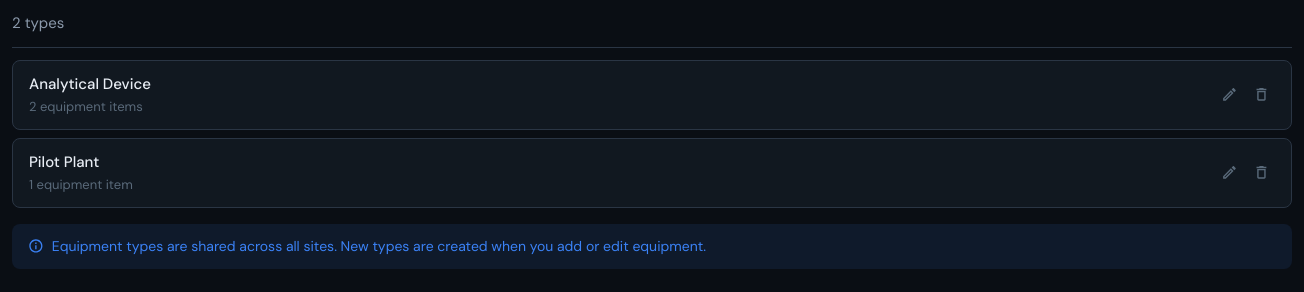
EquipmentTypesPanel › renames a type and refreshes the equipment in the store
Expected: the text "Pilot Plant" is shown, [29,152,99,172]
Click the button titled "Rename type" at (1229, 172), box [1215,158,1243,186]
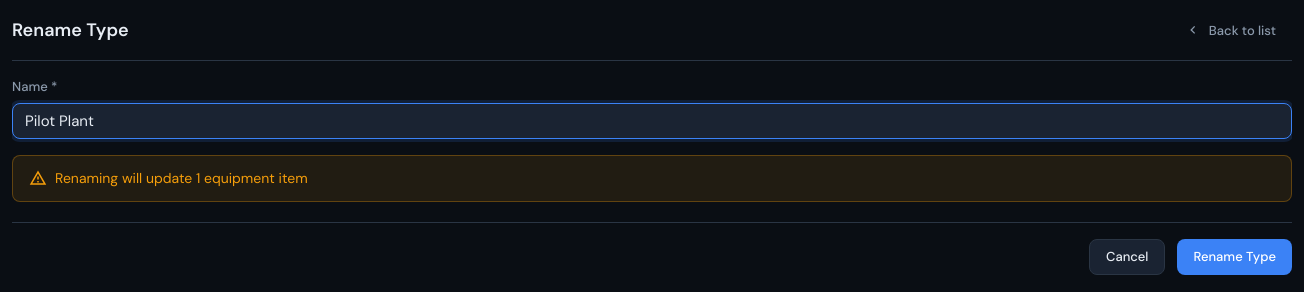
Replace the text in the field labelled "Name *" with "Pilot Line" at (652, 120), box [12,102,1292,138]
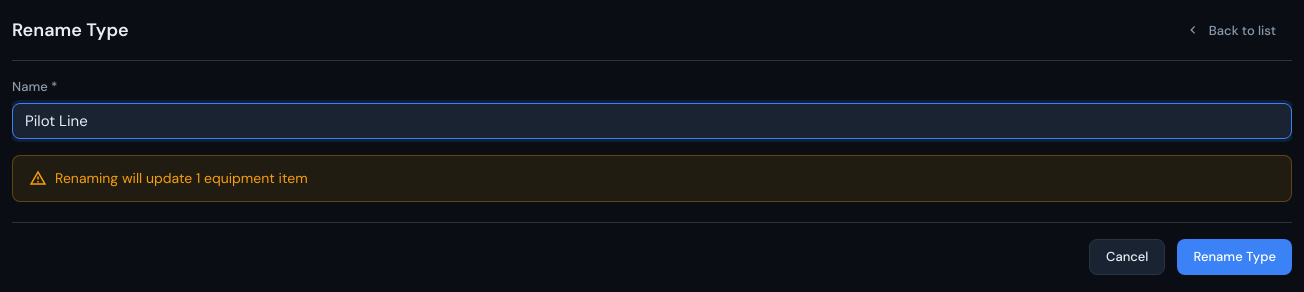
Click the button "Rename Type" at (1235, 256), box [1178,238,1292,274]
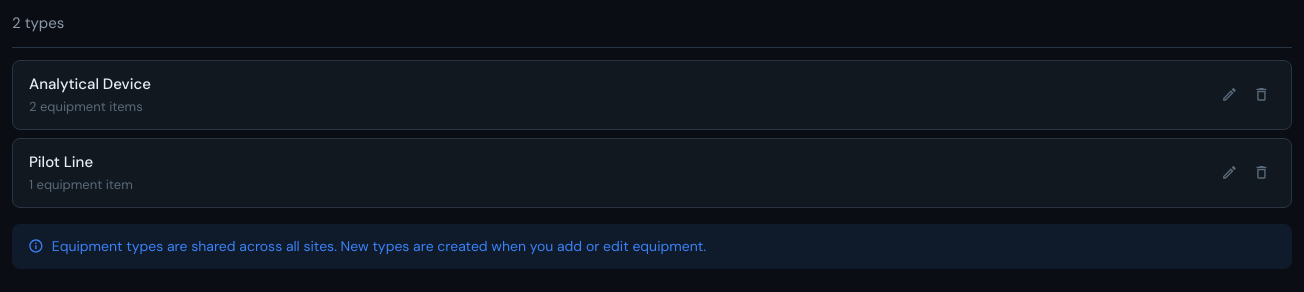
Now the text "Pilot Line" is shown, box [29,152,93,172]
